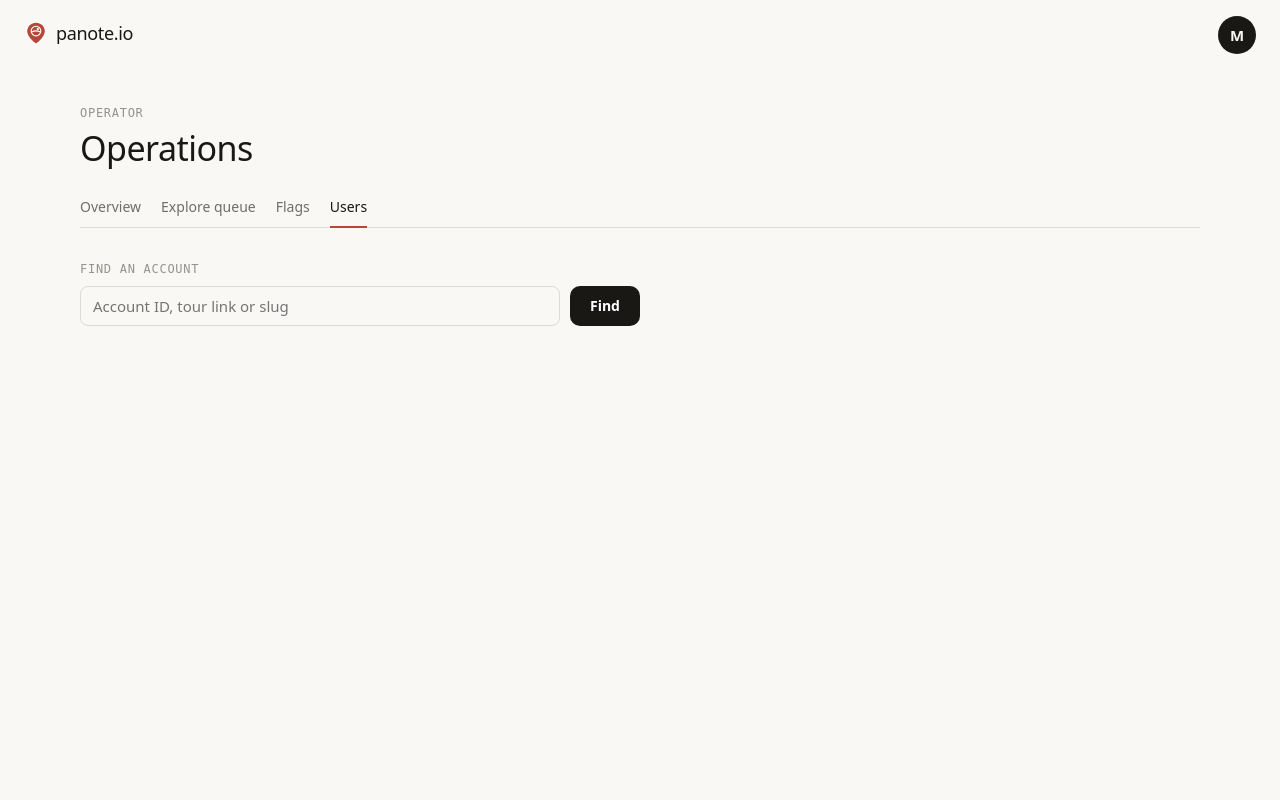
Test: /app/ops/users › finds an account by its share link and shows it
The image size is (1280, 800).
Type "nothing-here" into the search field labelled "Find an account" at point(320, 306), box [80, 286, 560, 326]
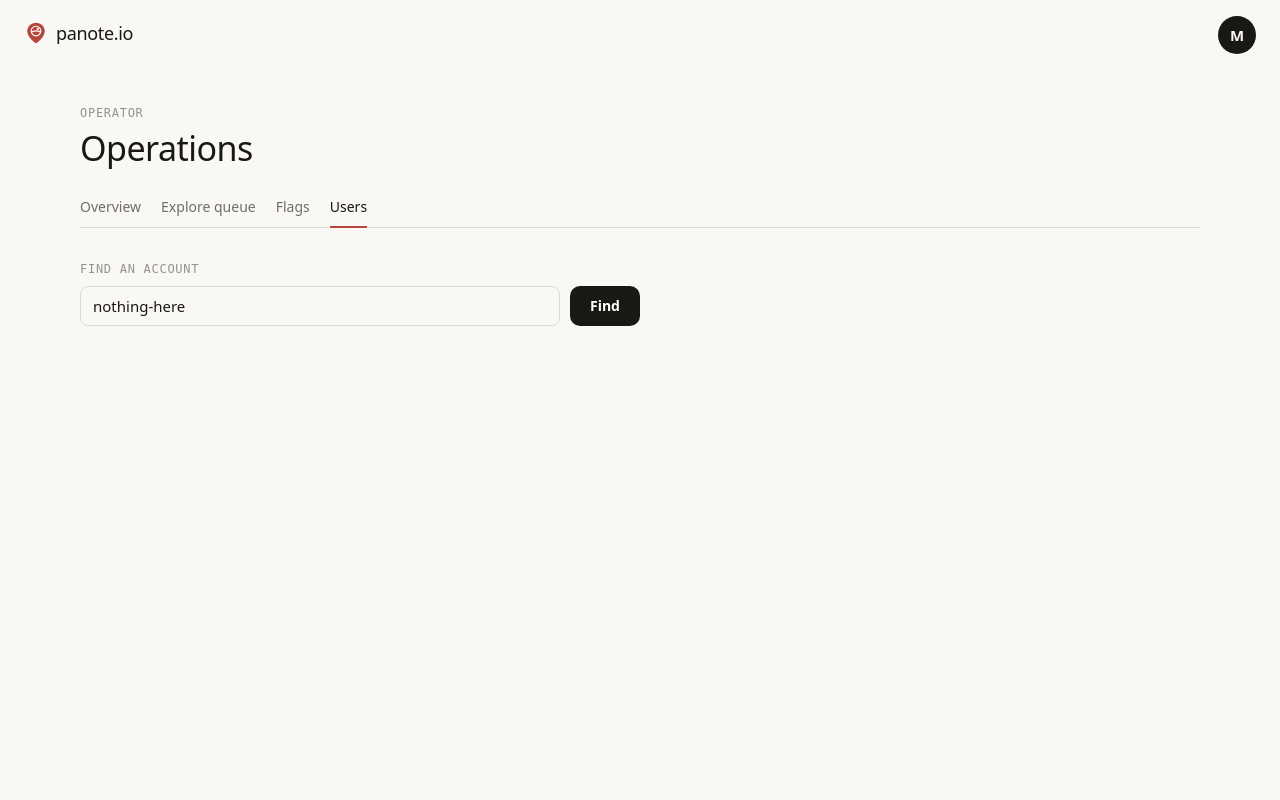
Click the button "Find" at point(605, 306), box [570, 286, 640, 326]
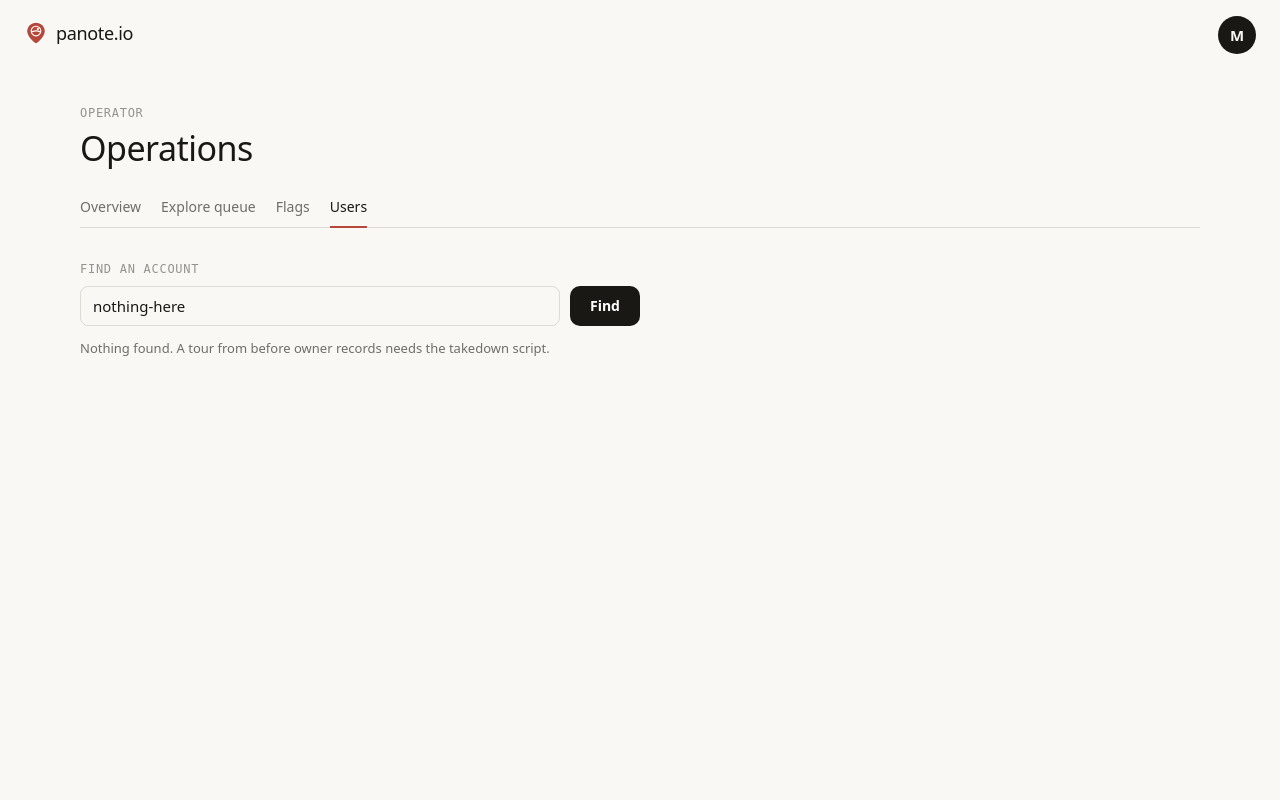
Expected: the text "Nothing found. A tour from before owner records needs the takedown script." is shown, [80, 339, 550, 357]
Replace the text in the search field labelled "Find an account" with "https://panote.io/s/old-town" at point(320, 306), box [80, 286, 560, 326]
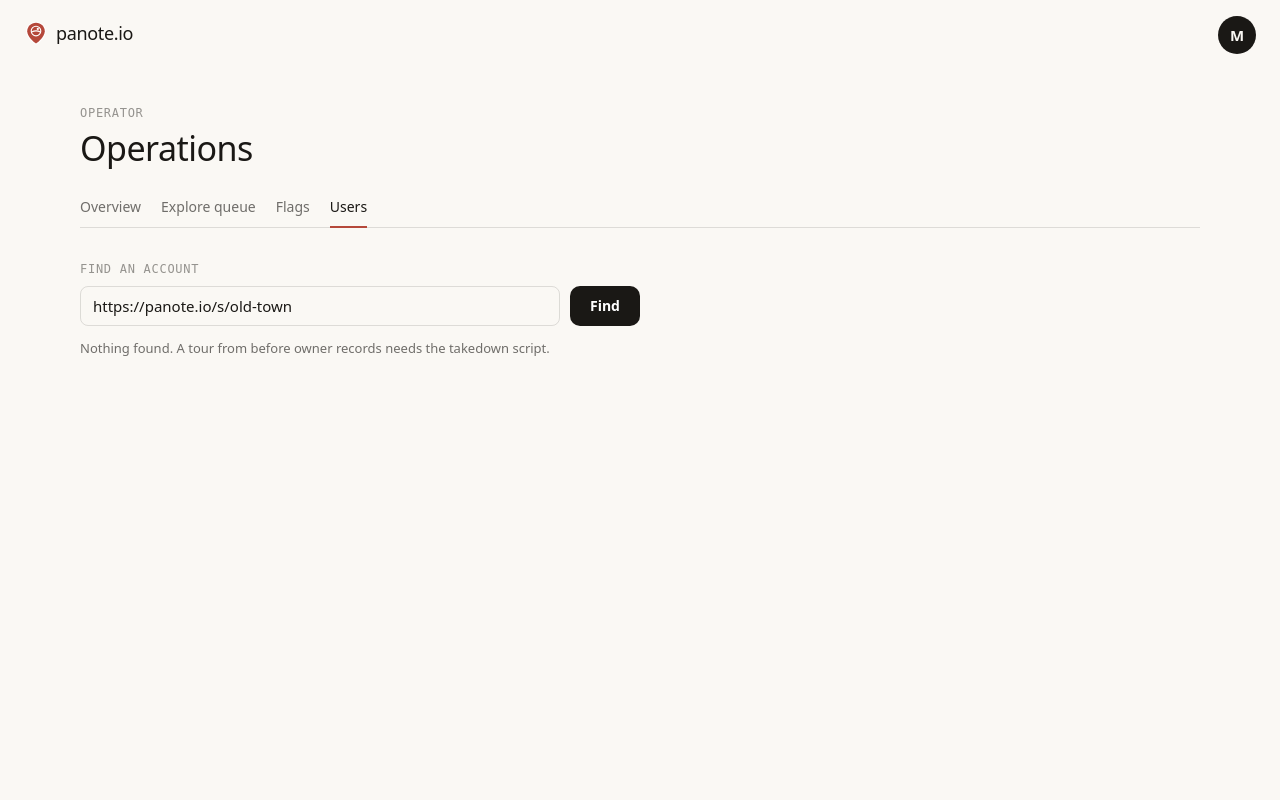
Click the button "Find" at point(605, 306), box [570, 286, 640, 326]
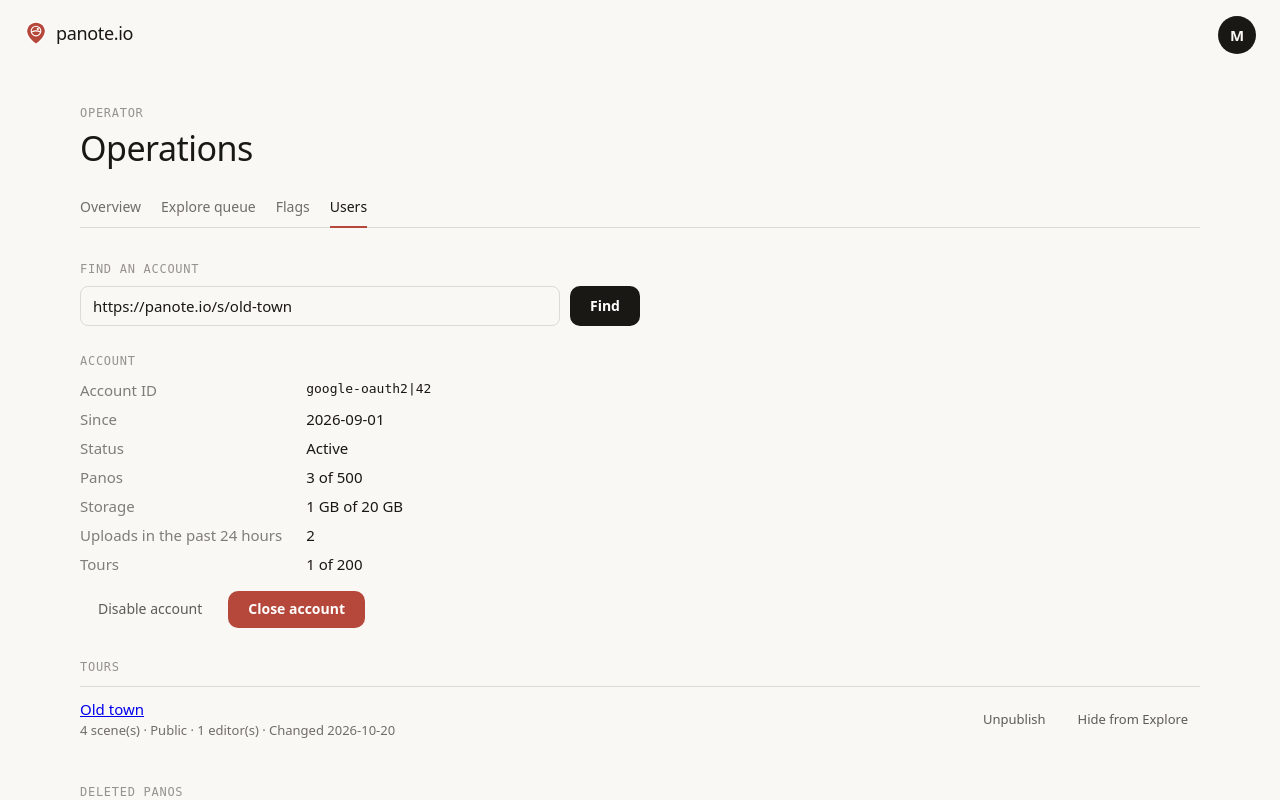
Expected: the text "google-oauth2|42" is shown, [306, 381, 431, 396]
Expected: the text "Active" is shown, [306, 438, 348, 458]
Expected: the text "3 of 500" is shown, [306, 467, 363, 487]
